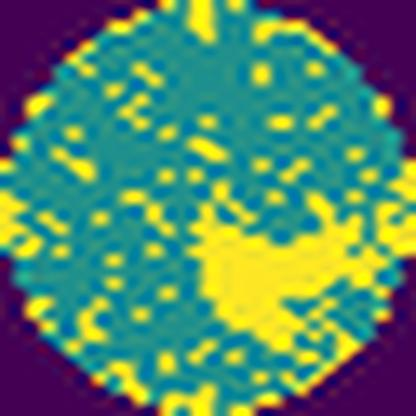Loc: (193, 185, 383, 358)
